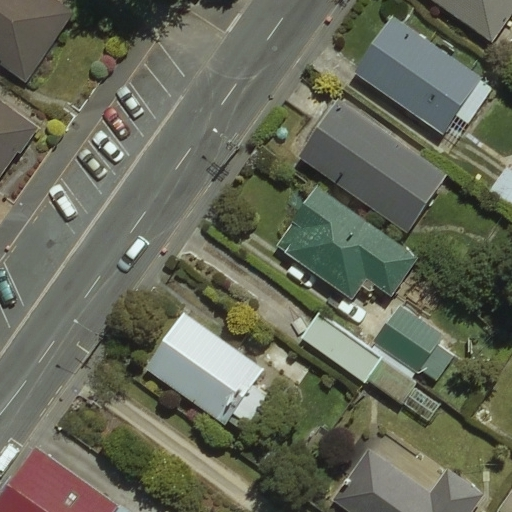DT: (68, 309, 112, 358), (204, 121, 251, 162)
